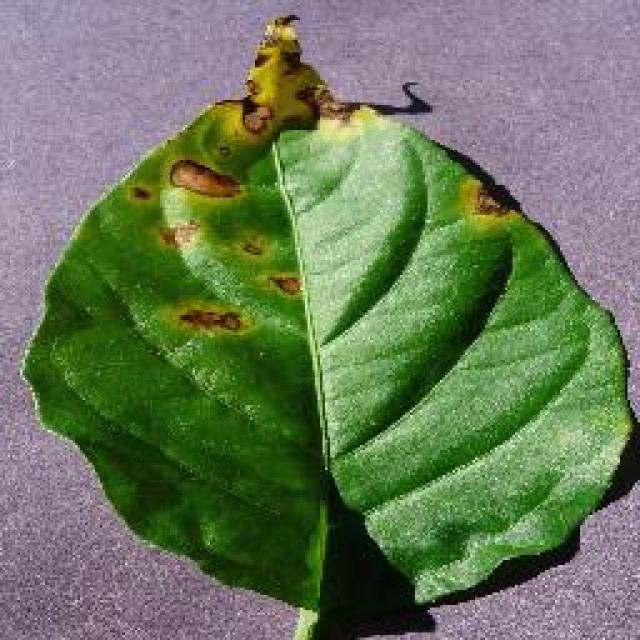Chilli_Bacterial_Spot: (18, 10, 638, 638), (148, 108, 522, 342), (150, 10, 332, 345), (152, 152, 302, 342), (235, 10, 330, 140), (162, 290, 258, 345), (452, 170, 522, 230), (165, 155, 243, 203), (173, 303, 245, 335), (155, 215, 203, 255), (260, 10, 302, 48), (237, 98, 275, 138), (262, 270, 302, 300), (235, 232, 267, 262), (125, 180, 153, 205)
